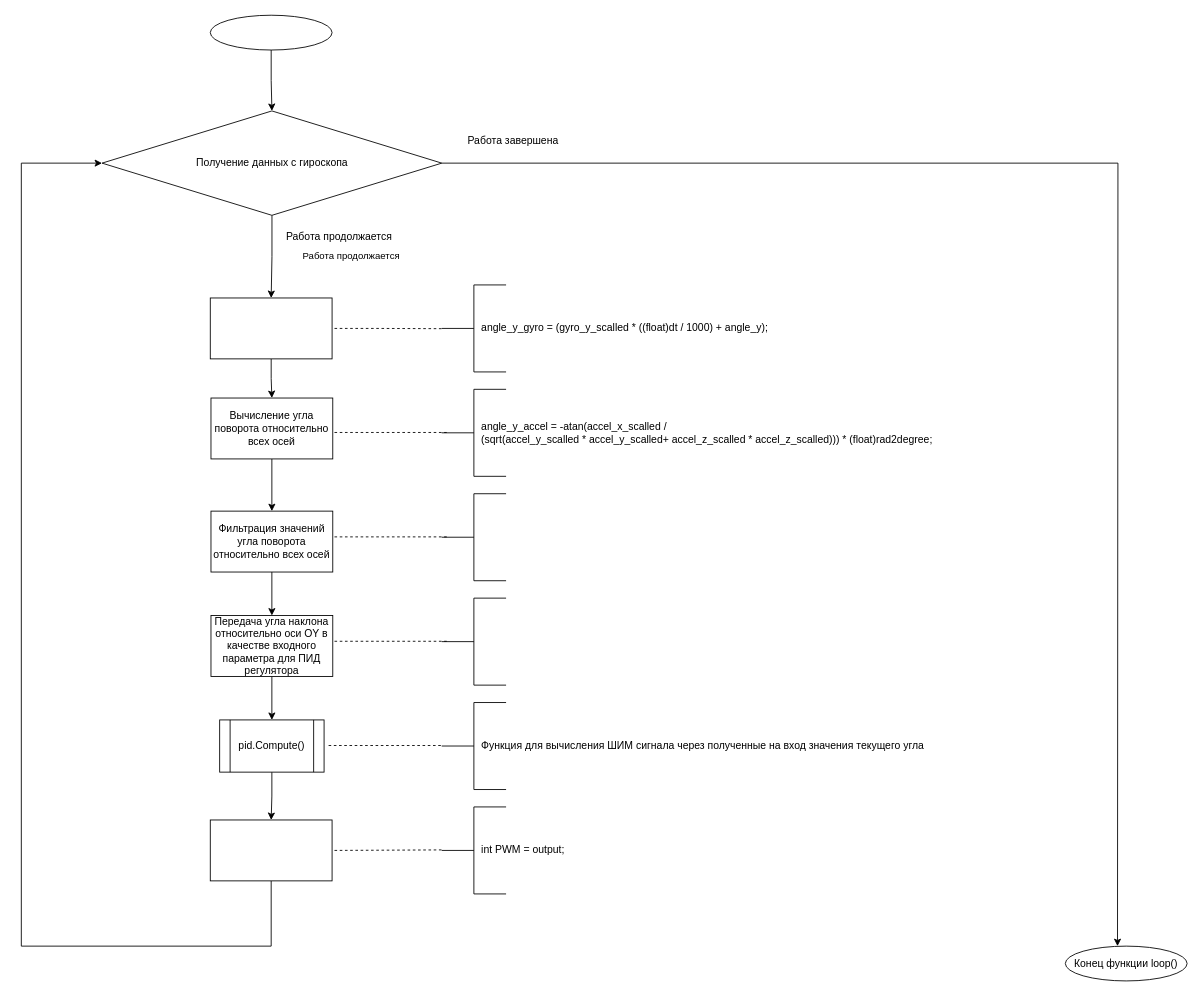
The diagram is 1202 pixels wide and 996 high, and some of its shapes have lost their labels. The box of each missing label's shape, as (x1, y1, x2, y2) in pixels:
angle_y = Filter_gain * angle_y_gyro + (1 - Filter_gain) * angle_y_accel;: (441, 493, 506, 581)
input = angle_y;: (441, 597, 506, 685)
Вычисление угловой скорости относительно всех осей: (209, 297, 332, 359)
Начало функции loop(): (209, 14, 332, 50)
Передача выходного ШИМ сигнала на двигатели: (209, 819, 332, 881)
